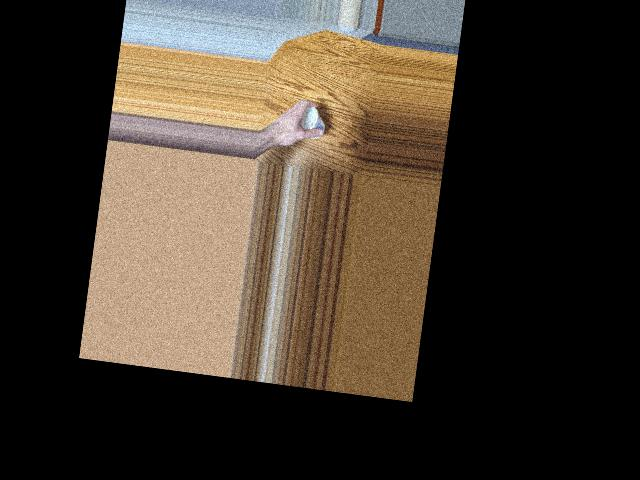cotage: (294, 107, 326, 143)
